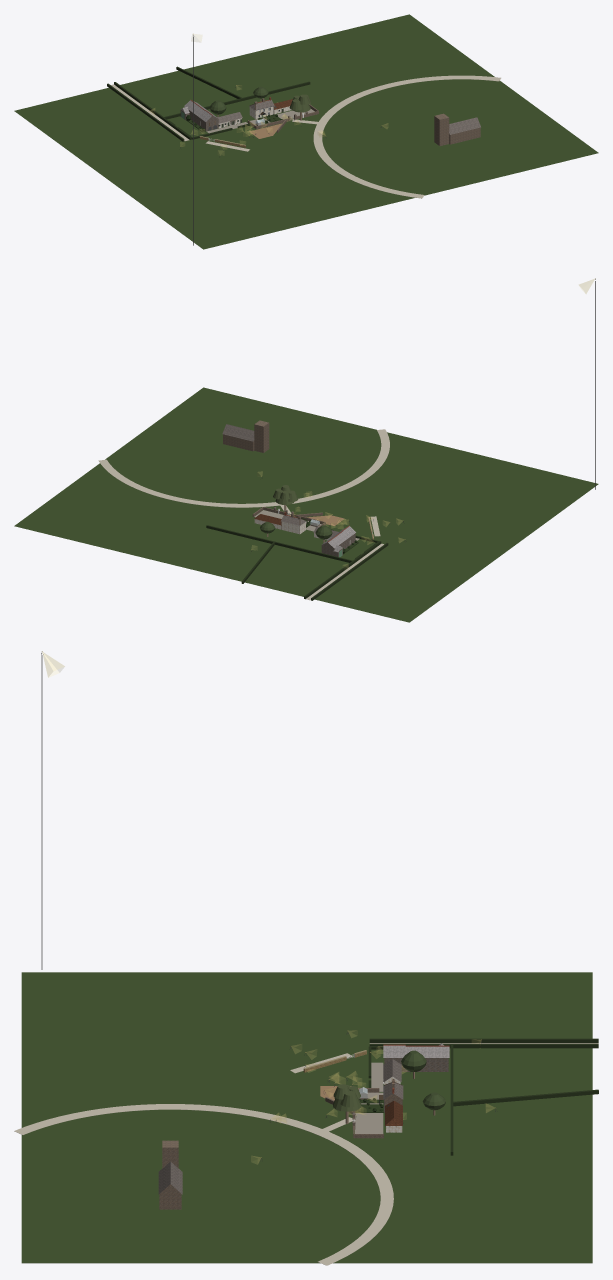
Rendered from tymawr.glb.
3 renders of one model, top to bottom at view 1: azimuth 30°, elevation 25°; view 2: azimuth 150°, elevation 25°; view 3: azimuth 270°, elevation 25°, orthographic. The views are drawn at different scales.
Parts seen in each view (by area): view 1: tymawr; view 2: tymawr; view 3: tymawr.
Part boxes in pixels (box(x1,y1,x2,y2)): tymawr: box(14, 14, 598, 249); tymawr: box(14, 278, 598, 622); tymawr: box(14, 651, 598, 1265).
Bounding box in the file's own units: 240 × 120 × 200.
Materials: 36 (7 with a texture image).
